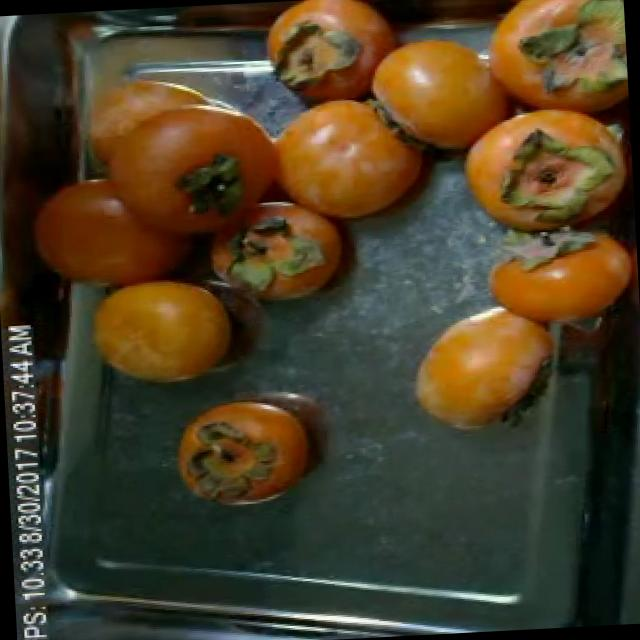Fruit: (253, 68, 469, 245), (435, 96, 636, 252), (396, 291, 580, 448), (66, 260, 255, 407), (160, 383, 340, 522), (467, 227, 640, 342)
